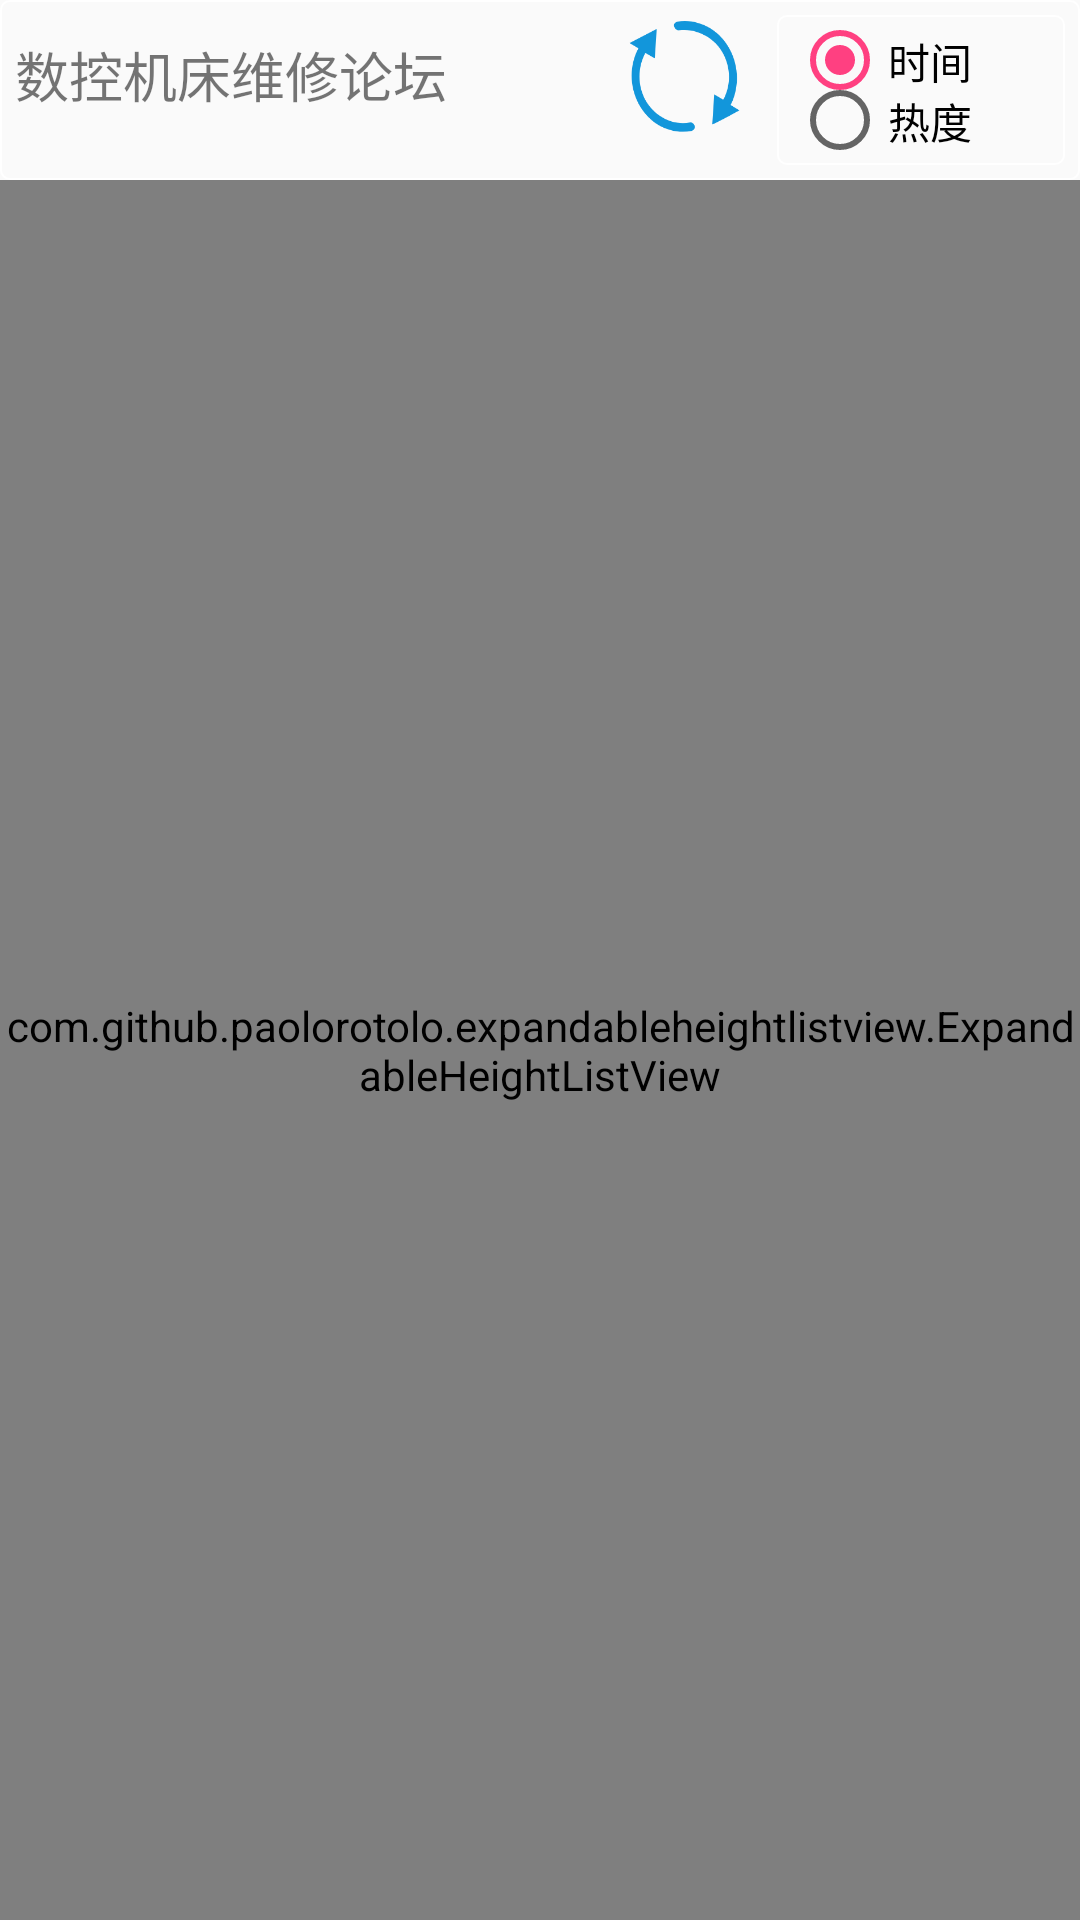

Icon bounding boxes for this 1080 × 1920 phone screenshot, format (x1, y1, x2, y2):
reload: (630, 21, 739, 132)
